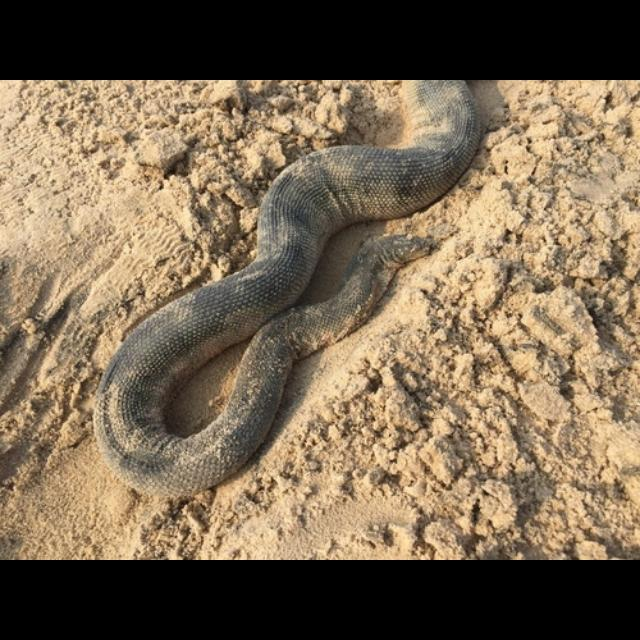snake: (94, 80, 482, 498)
